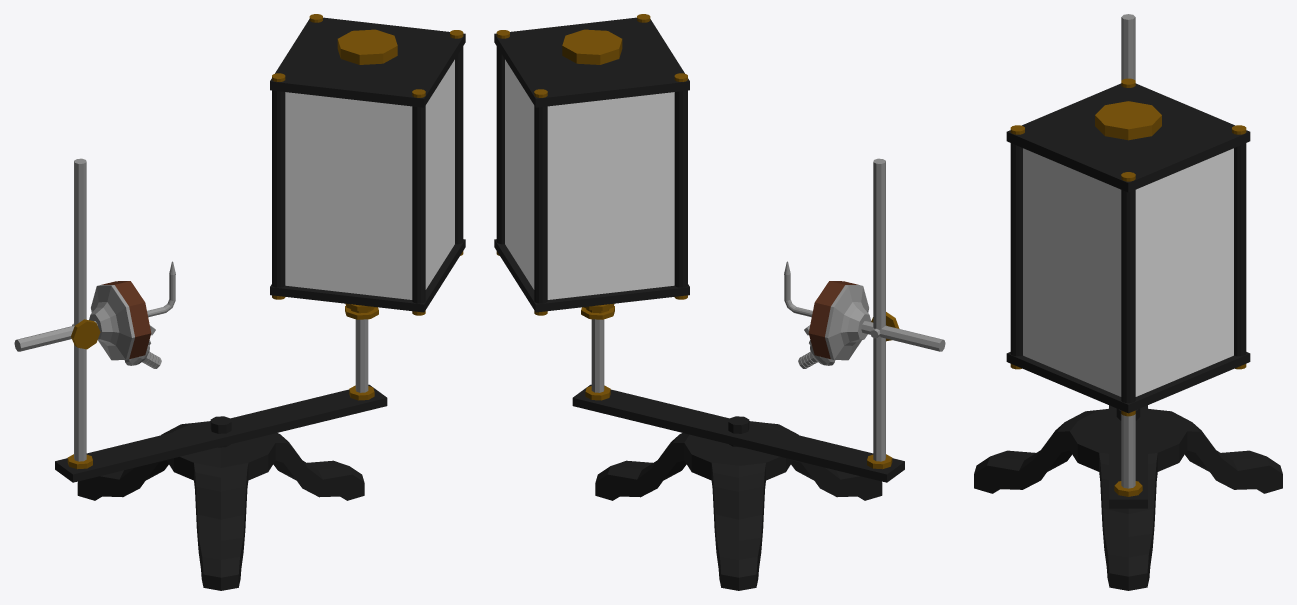
File: 1barometr.glb
3 views of the same model, side by side, from view 1: azimuth 30°, elevation 25°; view 2: azimuth 150°, elevation 25°; view 3: azimuth 270°, elevation 25° (orthographic). The views are drawn at different scales.
Visible parts, largest first — view 1: Плоскость.003; view 2: Плоскость.003; view 3: Плоскость.003.
Part boxes in pixels (x1,y1,x2,y2): Плоскость.003: [14, 14, 465, 590]; Плоскость.003: [494, 14, 945, 590]; Плоскость.003: [974, 14, 1282, 590].
Size of the model in its own units: 2.85 by 2.7 by 1.58.
